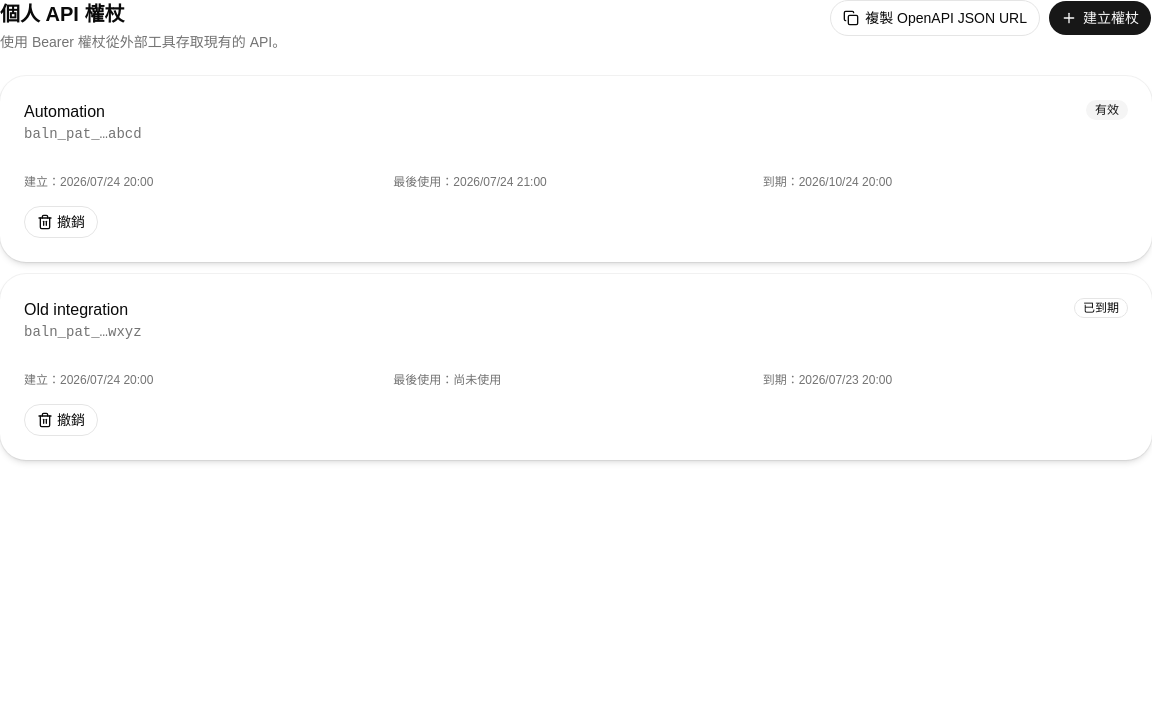
Scenario: API tokens page › shows token states and revokes only after confirmation
Check: the text "Automation" is shown, box [24,103,105,120]
Check: the text "Old integration" is shown, box [24,298,142,322]
Click the button "撤銷" below "baln_pat_…abcd" at (61, 222), box [24,206,98,238]
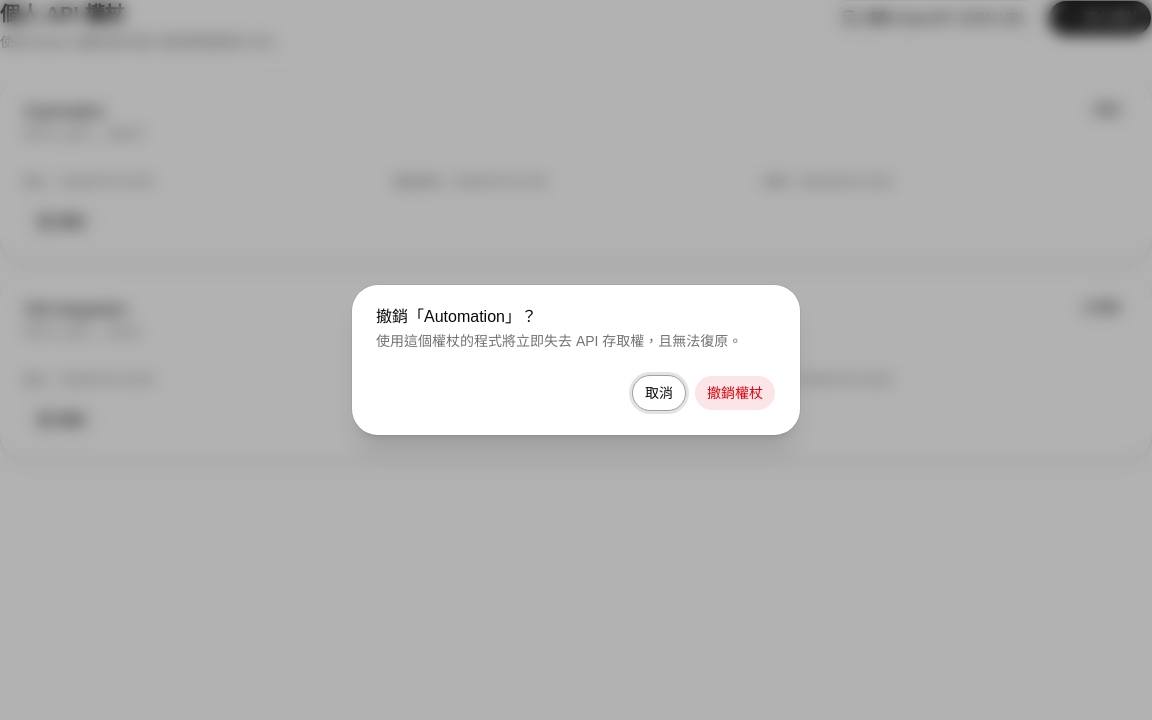
Check: the heading "撤銷「Automation」？" is shown, box [376,309,537,325]
Click the button "撤銷權杖" at (735, 393), box [694,375,776,411]
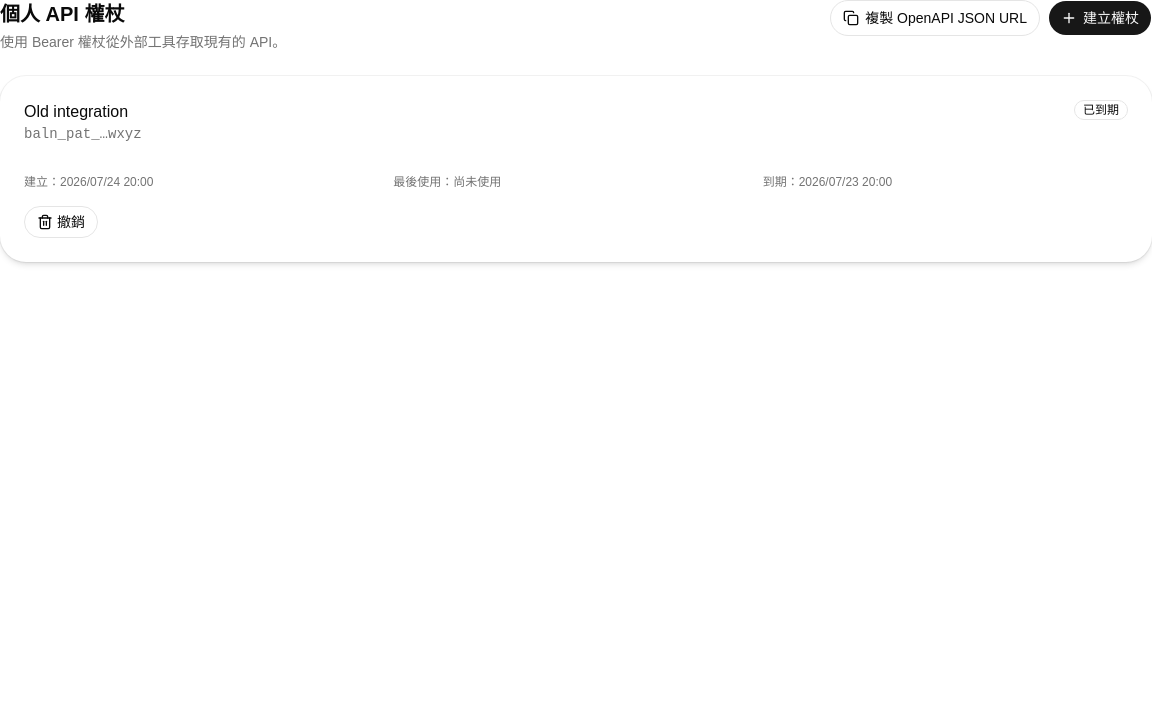
Check: the text "Old integration" is shown, box [24,100,142,124]
Check: the text "Automation" is gone
